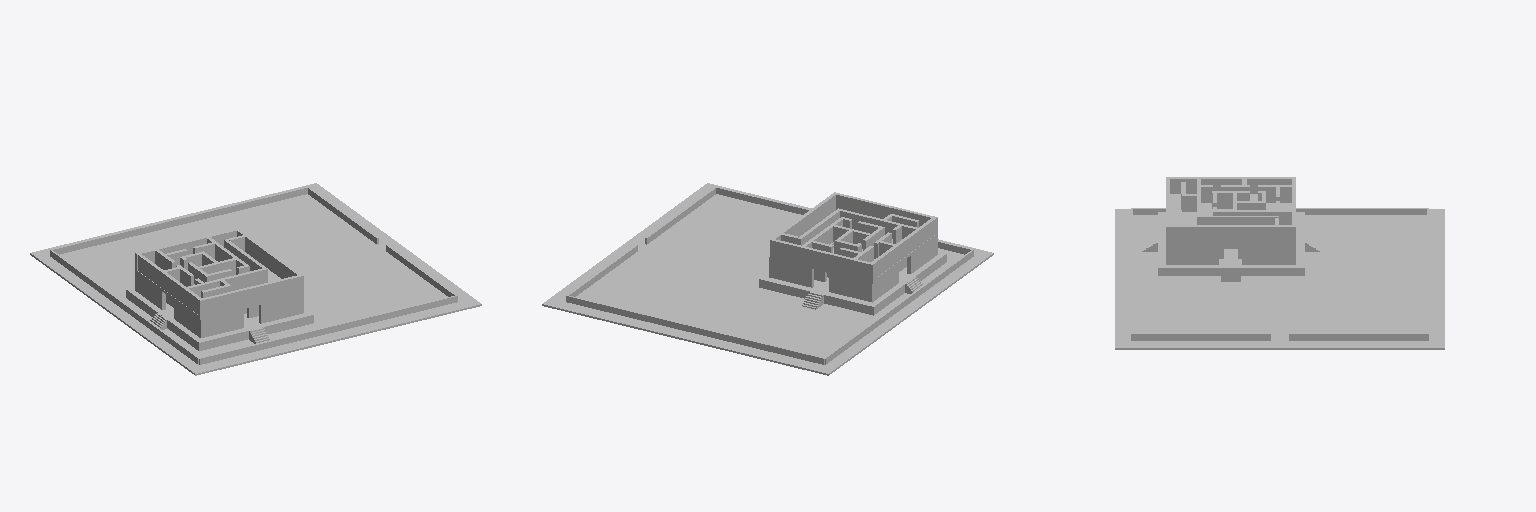
File: tamesiCol3.obj
The picture shows the model from 3 angles: view 1: azimuth 30°, elevation 25°; view 2: azimuth 150°, elevation 25°; view 3: azimuth 270°, elevation 25°; orthographic projection.
Parts seen in each view (by area): view 1: grond, Cube.099, Cube.115, dodai, Cube.013, Cube.014, Cube.015, Cube.017, Cube.016; view 2: grond, Cube.099, Cube.115, dodai, Cube.014, Cube.015, Cube.013, Cube.016, Cube.017; view 3: grond, Cube.099, dodai, Cube.115, Cube.016, Cube.017, Cube.015, tougou.002.
Boxes of the visible parts, x1=… form: grond: x1=30, y1=183, x2=481, y2=375; Cube.099: x1=135, y1=228, x2=303, y2=319; Cube.115: x1=135, y1=272, x2=303, y2=337; dodai: x1=126, y1=287, x2=313, y2=350; Cube.013: x1=199, y1=296, x2=456, y2=364; Cube.014: x1=50, y1=187, x2=307, y2=254; Cube.015: x1=50, y1=250, x2=198, y2=364; Cube.017: x1=307, y1=187, x2=378, y2=244; Cube.016: x1=386, y1=244, x2=457, y2=301; grond: x1=542, y1=183, x2=993, y2=375; Cube.099: x1=770, y1=192, x2=937, y2=283; Cube.115: x1=769, y1=236, x2=937, y2=302; dodai: x1=759, y1=251, x2=946, y2=315; Cube.014: x1=568, y1=295, x2=824, y2=364; Cube.015: x1=825, y1=250, x2=973, y2=364; Cube.013: x1=716, y1=187, x2=973, y2=254; Cube.016: x1=645, y1=187, x2=716, y2=244; Cube.017: x1=566, y1=244, x2=637, y2=302; grond: x1=1115, y1=209, x2=1444, y2=349; Cube.099: x1=1166, y1=177, x2=1295, y2=245; dodai: x1=1158, y1=212, x2=1304, y2=275; Cube.115: x1=1166, y1=244, x2=1295, y2=264; Cube.016: x1=1131, y1=333, x2=1270, y2=340; Cube.017: x1=1289, y1=333, x2=1428, y2=340; Cube.015: x1=1133, y1=208, x2=1426, y2=214; tougou.002: x1=1170, y1=194, x2=1291, y2=224.
Size of the model in its own units: 160 by 26 by 160.